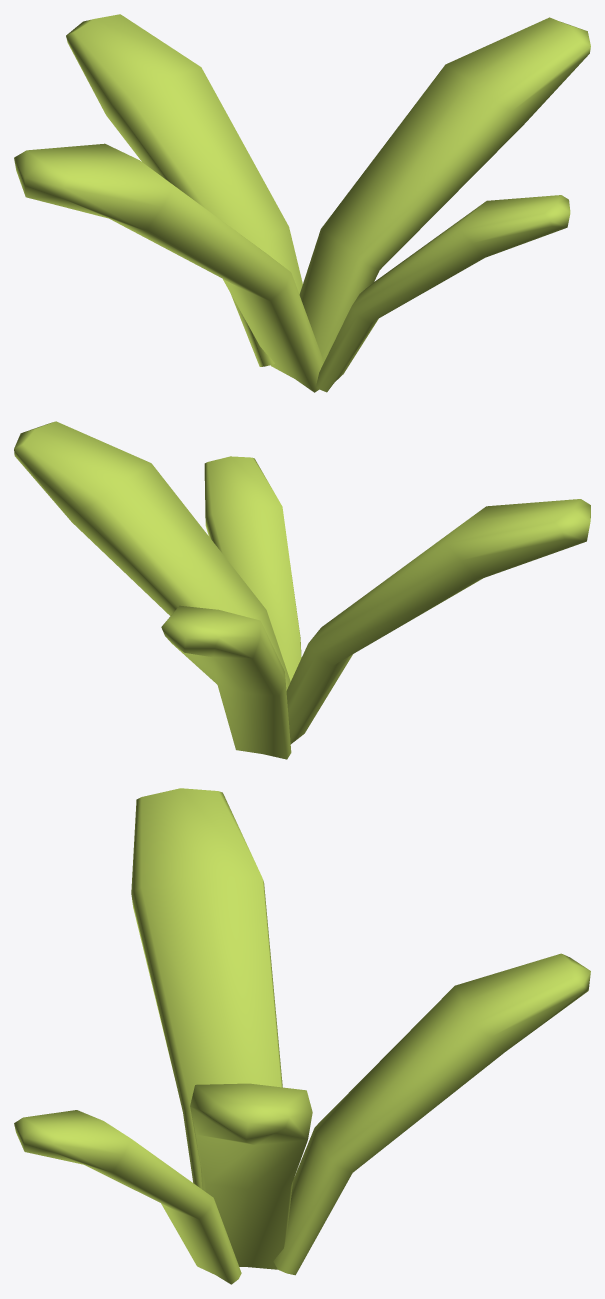
Rendered from platform_kit017.fbx.
3 views of the same model, one above another, from view 1: azimuth 30°, elevation 25°; view 2: azimuth 150°, elevation 25°; view 3: azimuth 270°, elevation 25° (orthographic). The views are drawn at different scales.
Parts seen in each view (by area): view 1: platform_kit017; view 2: platform_kit017; view 3: platform_kit017.
Boxes of the visible parts, bbox=[...] form: platform_kit017: bbox=[14, 14, 590, 392]; platform_kit017: bbox=[14, 421, 590, 759]; platform_kit017: bbox=[14, 788, 590, 1284].
Bounding box in the file's own units: 63.9 × 31.62 × 50.42.
1 material, 1 textured.
